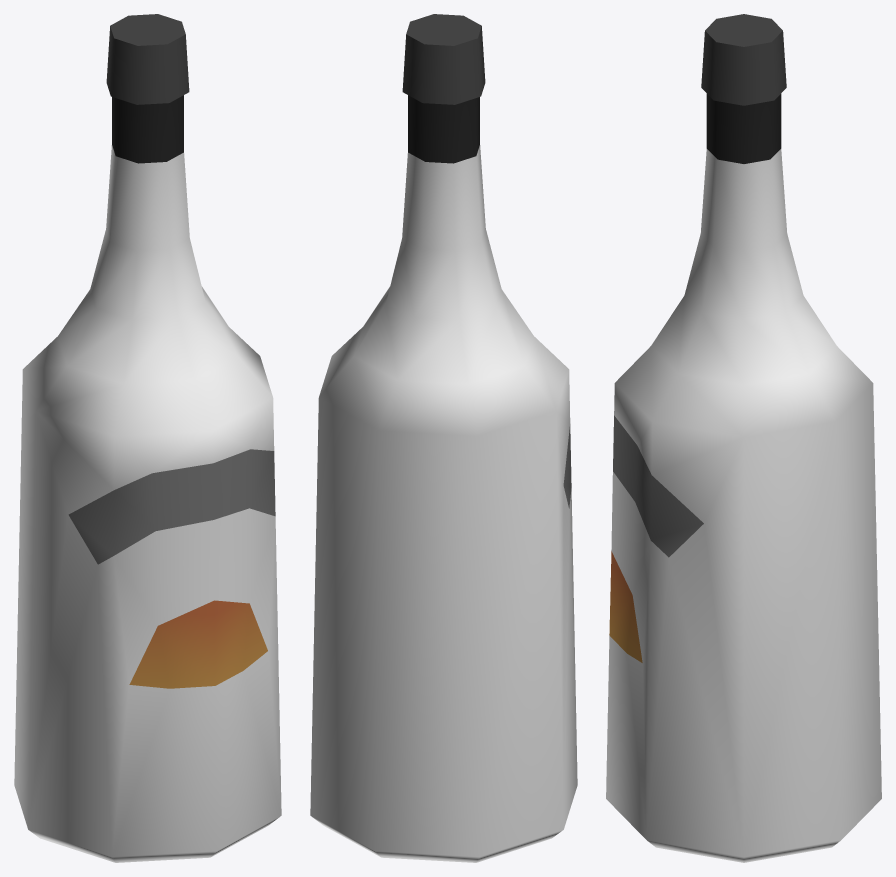
Rendered from prop_051.fbx.
3 renders of one model, left to right at view 1: azimuth 30°, elevation 25°; view 2: azimuth 150°, elevation 25°; view 3: azimuth 270°, elevation 25°, orthographic.
Parts seen in each view (by area): view 1: prop_051; view 2: prop_051; view 3: prop_051.
Part boxes in pixels (box(x1,y1,x2,y2)): prop_051: box(14, 14, 281, 862); prop_051: box(310, 14, 577, 862); prop_051: box(606, 14, 881, 862).
Size of the model in its own units: 14.01 by 14.01 by 43.71.
